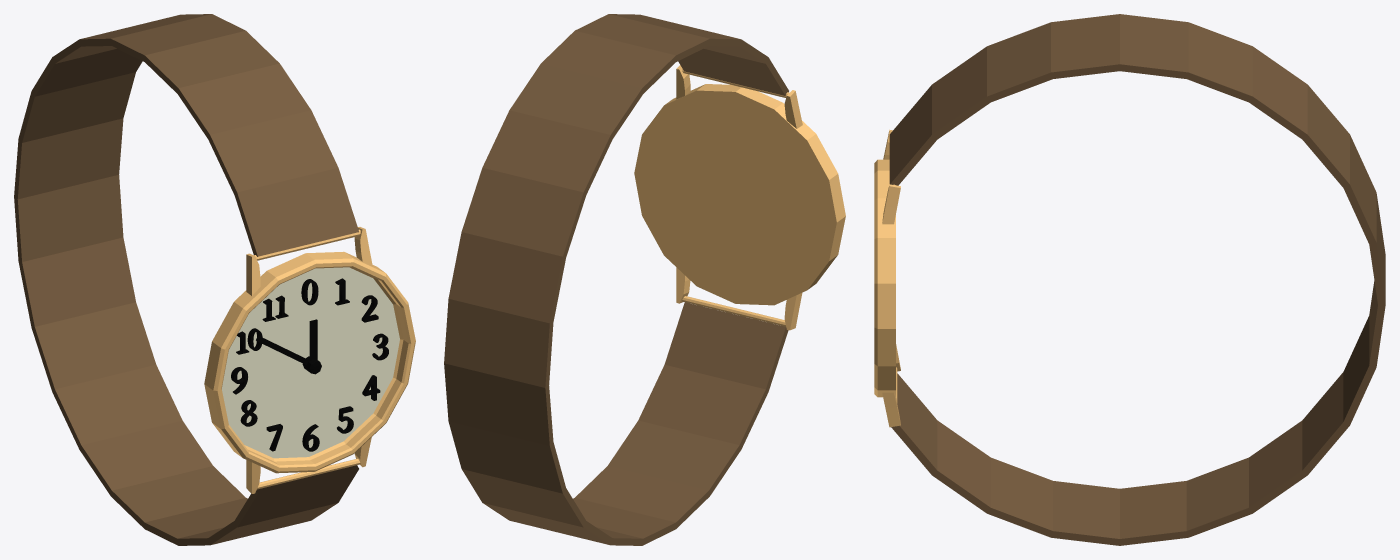
Rendered from theme02_WristWatch01.fbx.
3 renders of one model, left to right at view 1: azimuth 30°, elevation 25°; view 2: azimuth 150°, elevation 25°; view 3: azimuth 270°, elevation 25°, orthographic.
Parts seen in each view (by area): view 1: watch01final.001; view 2: watch01final.001; view 3: watch01final.001.
Boxes of the visible parts, x1,y1,x2,y2 form: watch01final.001: (14,14,415,545); watch01final.001: (444,14,845,545); watch01final.001: (874,14,1385,545).
Bounding box in the file's own units: 13.55 × 30.27 × 29.12.
